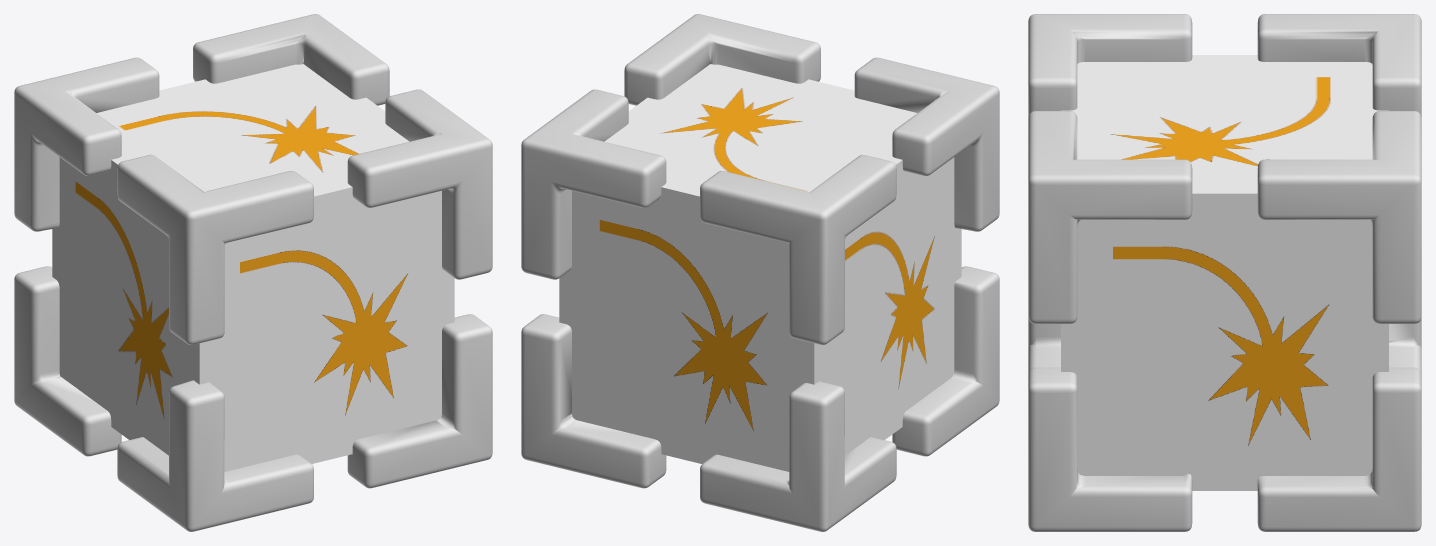
File: ProjectileShellBox.FBX
3 renders of one model, left to right at view 1: azimuth 30°, elevation 25°; view 2: azimuth 150°, elevation 25°; view 3: azimuth 270°, elevation 25°, orthographic. The views are drawn at different scales.
Parts seen in each view (by area): view 1: MainBox, Corner005, Corner008, Corner001, Corner011, Corner007, Corner006, Corner010; view 2: MainBox, Corner011, Corner006, Corner010, Corner005, Corner002, Corner008, Corner001; view 3: MainBox, Corner001, Corner010, Corner007, Corner002, Corner005, Corner011, Corner006, Corner008.
Boxes of the visible parts, x1,y1,x2,y2 form: MainBox: [52, 64, 454, 471]; Corner005: [117, 154, 313, 344]; Corner008: [117, 380, 313, 531]; Corner001: [347, 89, 492, 279]; Corner011: [14, 57, 159, 231]; Corner007: [347, 314, 492, 488]; Corner006: [14, 266, 121, 456]; Corner010: [193, 14, 389, 105]; MainBox: [559, 64, 961, 471]; Corner011: [700, 154, 896, 344]; Corner006: [700, 381, 896, 531]; Corner010: [521, 89, 666, 279]; Corner005: [854, 57, 999, 231]; Corner002: [521, 314, 666, 488]; Corner008: [892, 266, 999, 456]; Corner001: [624, 14, 820, 105]; MainBox: [1061, 55, 1388, 490]; Corner001: [1028, 111, 1192, 323]; Corner010: [1257, 111, 1421, 323]; Corner007: [1028, 367, 1192, 531]; Corner002: [1257, 367, 1421, 531]; Corner005: [1028, 14, 1192, 117]; Corner011: [1257, 14, 1421, 117]; Corner006: [1389, 317, 1421, 373]; Corner008: [1028, 317, 1060, 373].
Size of the model in its own units: 120 by 120 by 120.
Materials: 1 (1 with a texture image).
